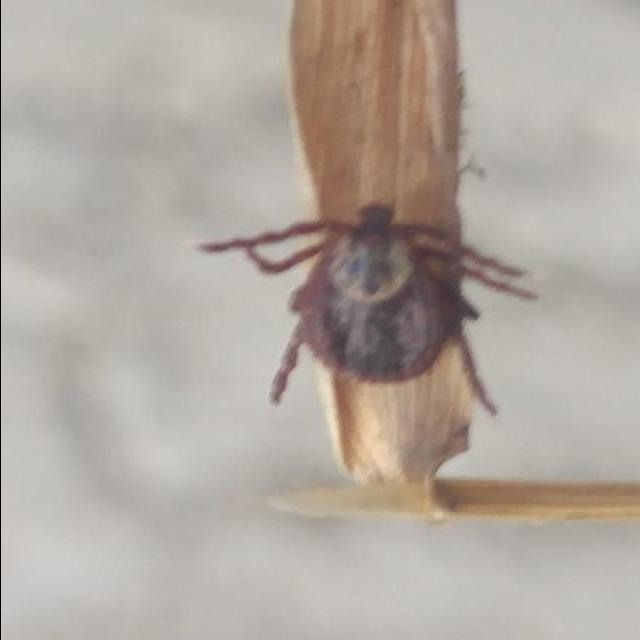Dermacentor Reticulatus-F: (198, 202, 541, 416)
